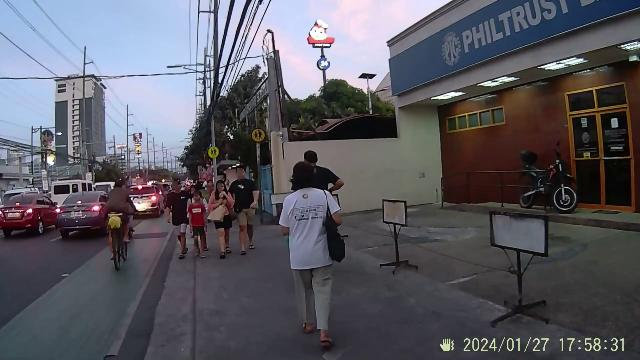street_sign: (486, 205, 554, 327)
